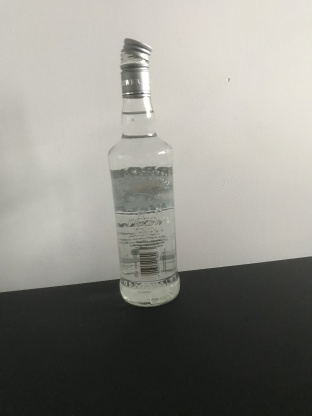nakretka: (118, 36, 153, 99)
